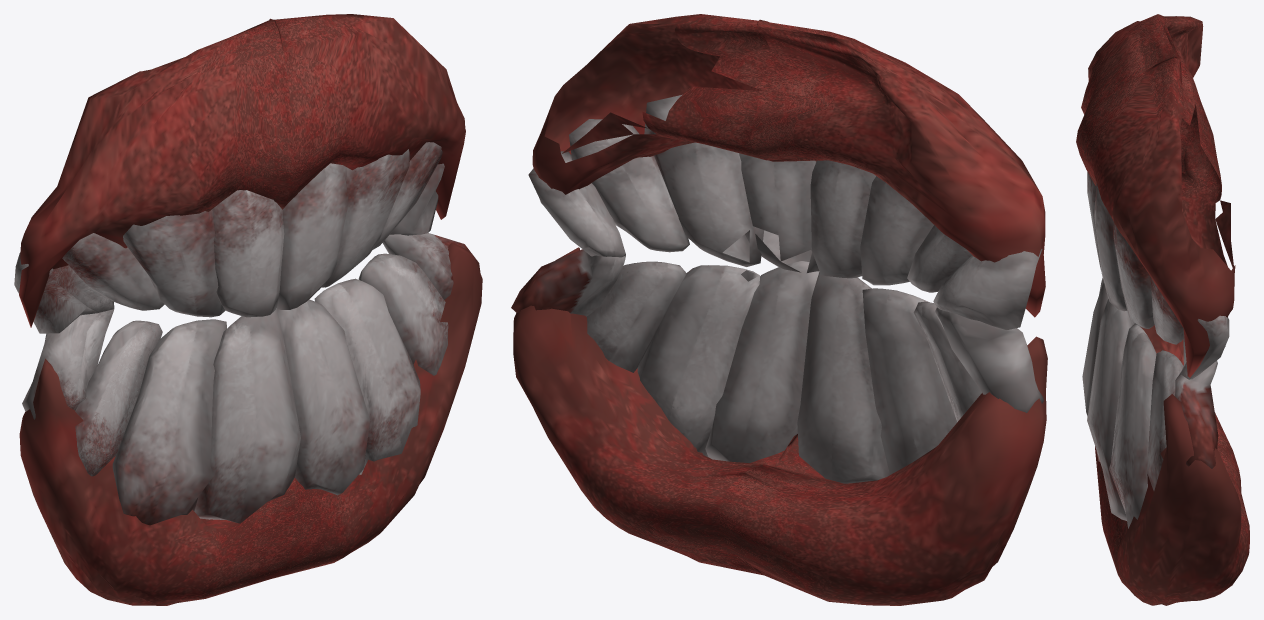
The model's file is Teeth_proccessed_origin.glb.
3 renders of one model, left to right at view 1: azimuth 30°, elevation 25°; view 2: azimuth 150°, elevation 25°; view 3: azimuth 270°, elevation 25°, orthographic. The views are drawn at different scales.
Visible parts, largest first — view 1: Bottom, Top; view 2: Bottom, Top; view 3: Top, Bottom.
Boxes of the visible parts, left/top/right/bottom form: Bottom: left=19, top=233, right=482, bottom=605; Top: left=14, top=14, right=465, bottom=333; Bottom: left=511, top=247, right=1047, bottom=605; Top: left=528, top=14, right=1045, bottom=329; Top: left=1076, top=14, right=1235, bottom=379; Bottom: left=1082, top=278, right=1249, bottom=605.
Bounding box in the file's own units: 1.37 × 1.48 × 0.4438.
1 material, 1 textured.
